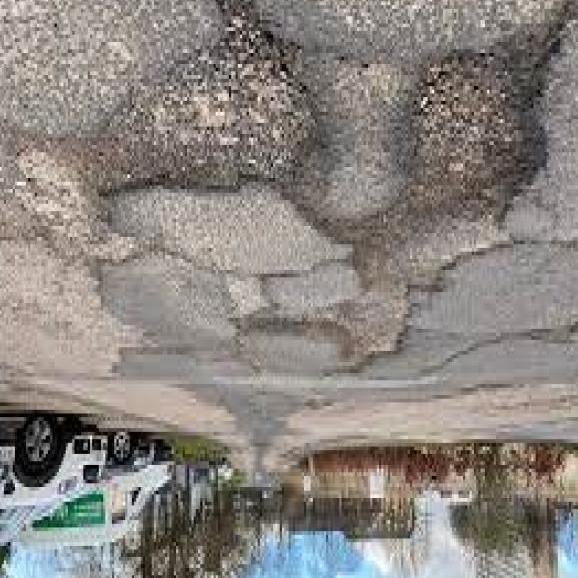pothole: (72, 18, 323, 189), (377, 20, 578, 222)
